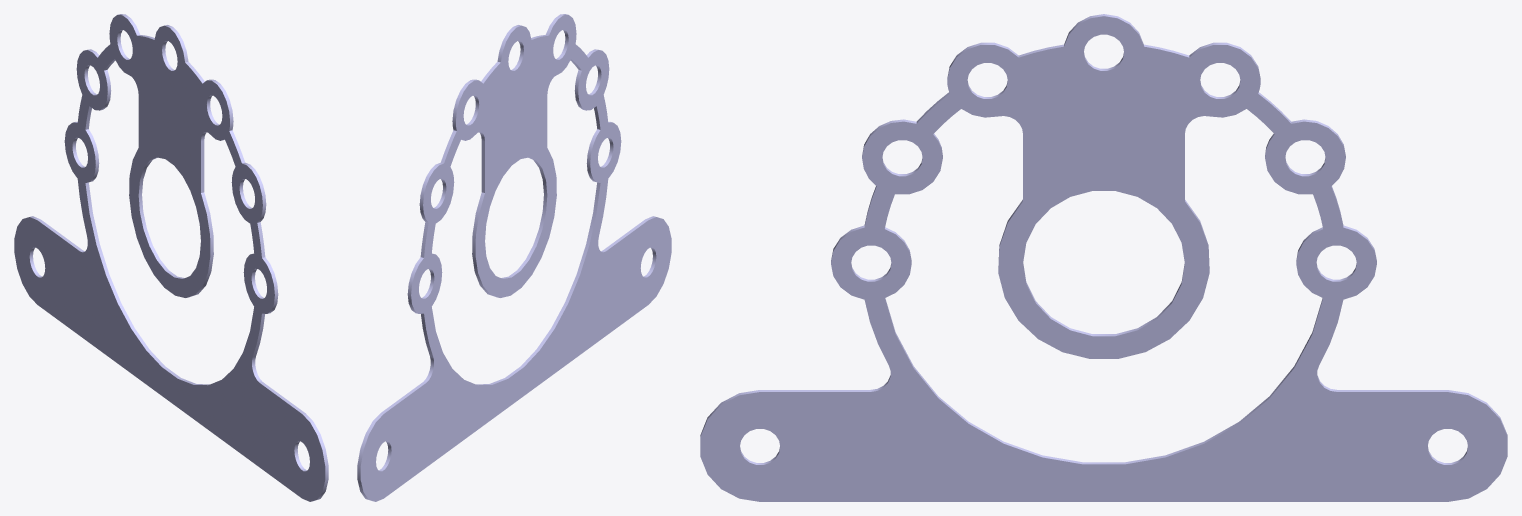
Rendered from 43 Junta 8.fbx.
3 views of the same model, side by side, from view 1: azimuth 30°, elevation 25°; view 2: azimuth 150°, elevation 25°; view 3: azimuth 270°, elevation 25° (orthographic). The views are drawn at different scales.
Visible parts, largest first — view 1: PartBody; view 2: PartBody; view 3: PartBody.
Part boxes in pixels (x1=…): PartBody: x1=14, y1=14, x2=328, y2=501; PartBody: x1=357, y1=14, x2=671, y2=501; PartBody: x1=700, y1=14, x2=1507, y2=501.
Size of the model in its own units: 0.125 by 13.25 by 19.96.
